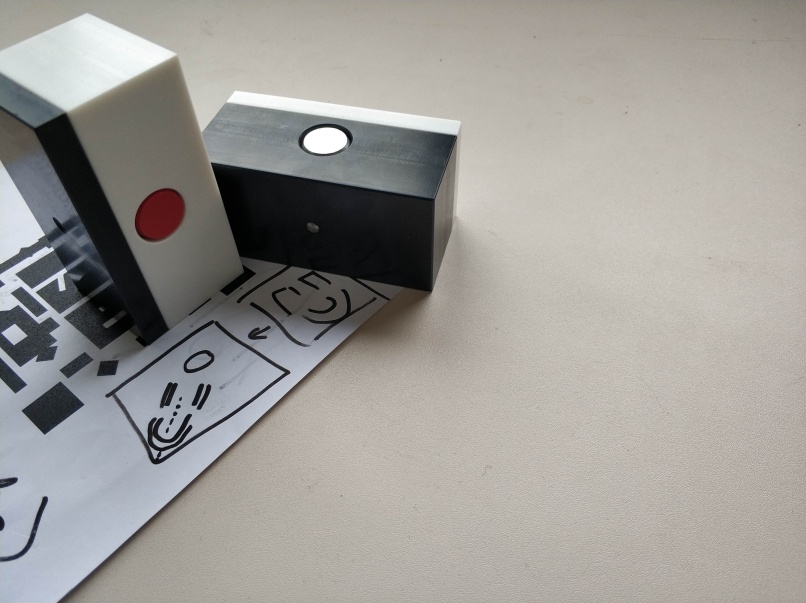black+white+red: (1, 9, 247, 350)
white+black+silver: (204, 87, 461, 295)
